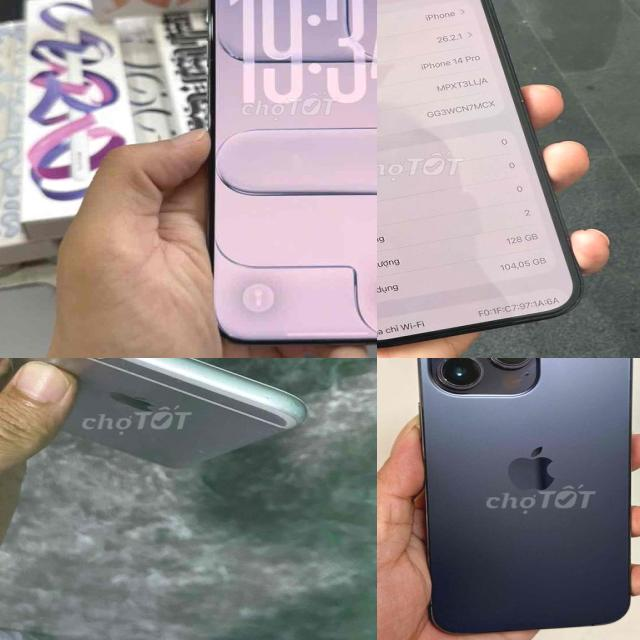gen_14: (377, 0, 585, 342), (402, 358, 640, 640)
gen_17: (203, 0, 377, 347)
gen_6: (10, 358, 306, 468)
